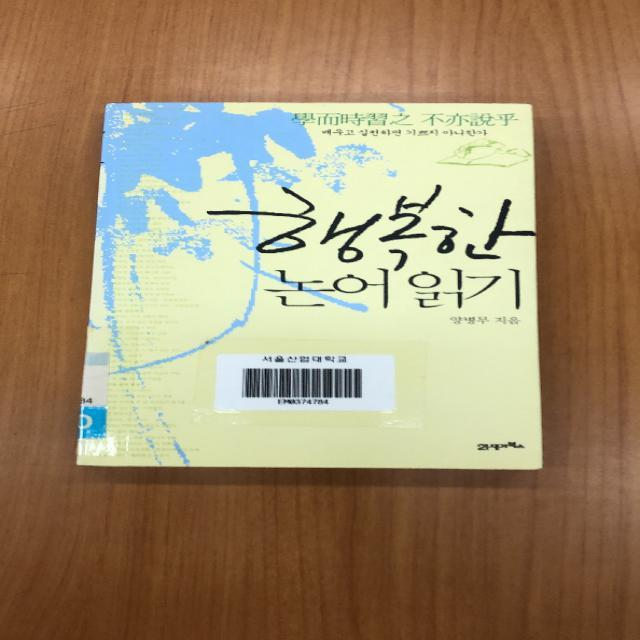Wornout: (100, 99, 165, 112)
